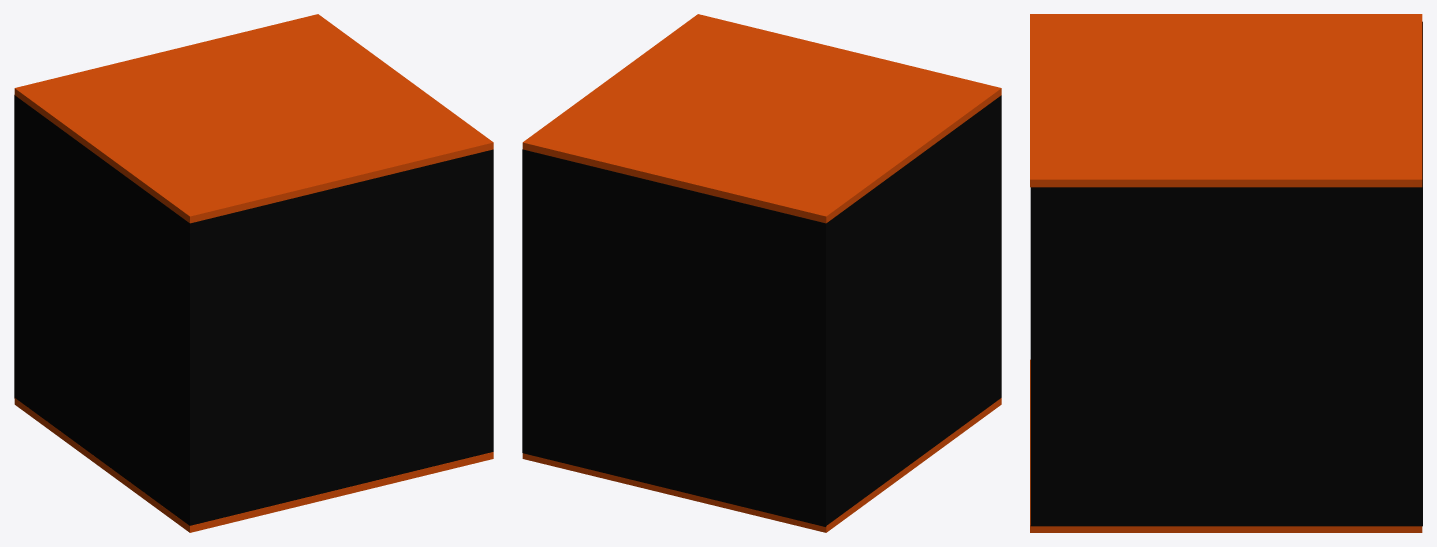
File: EsquineroNaranja.fbx
The picture shows the model from 3 angles, left to right: view 1: azimuth 30°, elevation 25°; view 2: azimuth 150°, elevation 25°; view 3: azimuth 270°, elevation 25°; orthographic projection. The views are drawn at different scales.
Parts seen in each view (by area): view 1: Cube.079, Cube.081, Cube.082; view 2: Cube.079, Cube.081, Cube.082; view 3: Cube.079, Cube.081, Cube.082.
Part boxes in pixels (<box>): Cube.079: <box>14,95,493,525</box>; Cube.081: <box>14,14,493,223</box>; Cube.082: <box>14,398,493,532</box>; Cube.079: <box>522,95,1001,526</box>; Cube.081: <box>522,14,1001,223</box>; Cube.082: <box>522,398,1001,532</box>; Cube.079: <box>1030,21,1422,526</box>; Cube.081: <box>1030,14,1422,187</box>; Cube.082: <box>1030,359,1422,532</box>.
Bounding box in the file's own units: 73.3 × 72.96 × 73.48.
